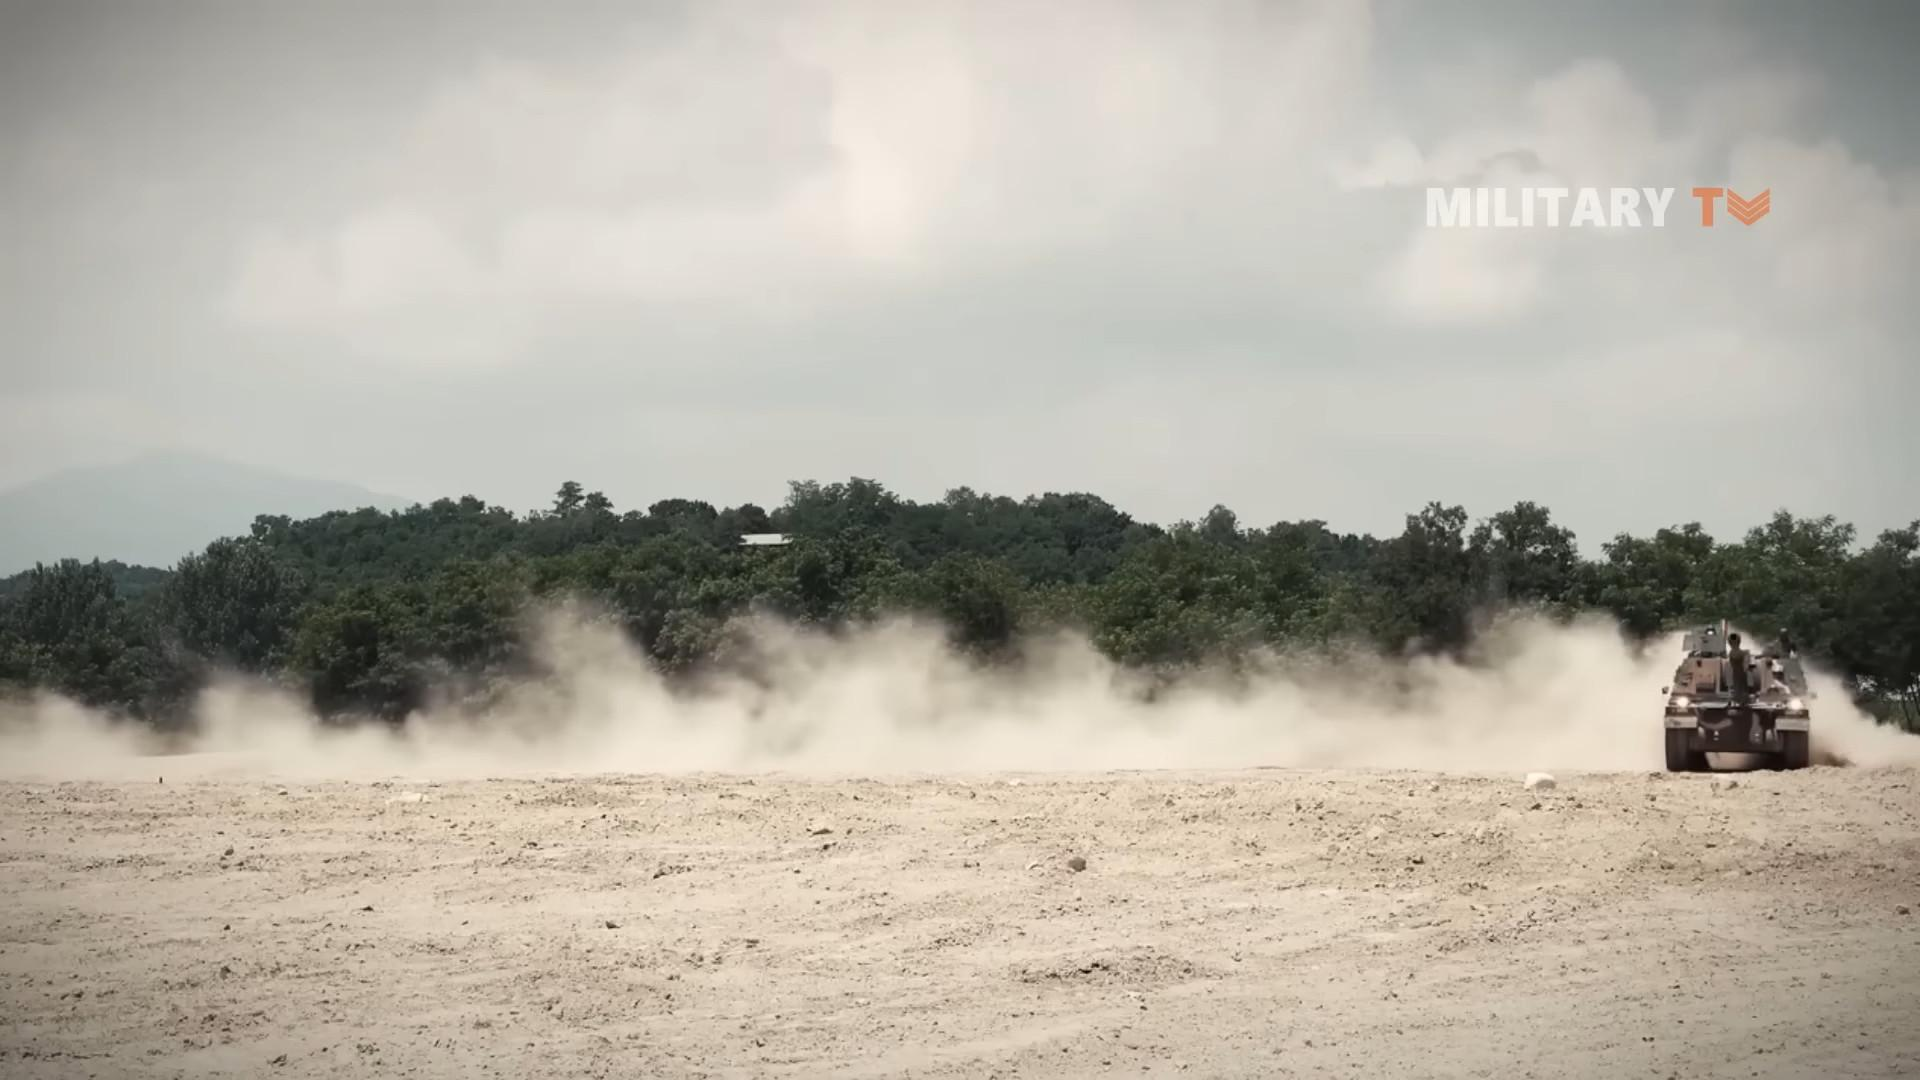tank: (1665, 629, 1812, 769)
